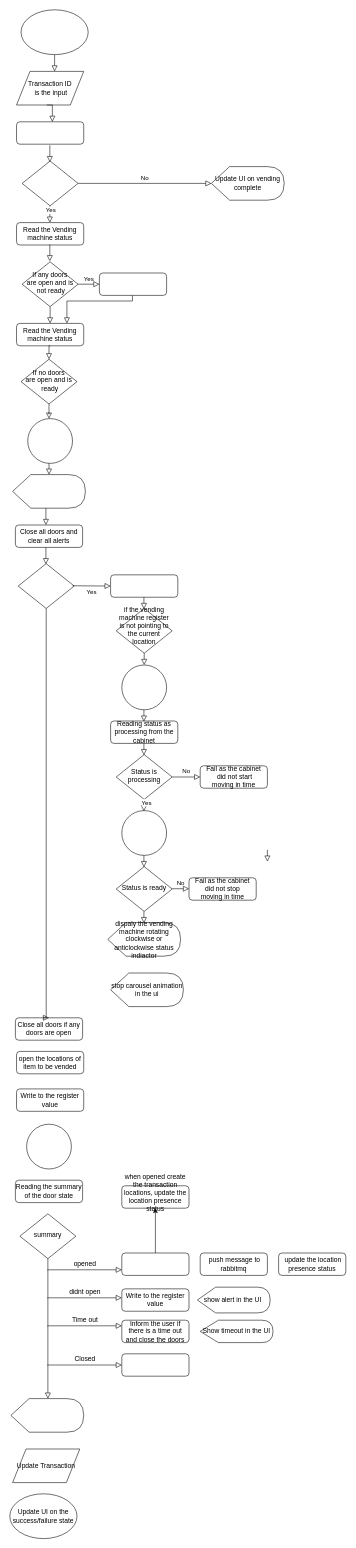
Some shapes in this 356 by 1548 pixel diagram are drawn without their labels. The shapes that lost their labels are listed below. From the top down, each one's centre as x and y in pixels, then its label:
At (54,32): "Request start processing in Job".
At (50,132): "Fetch Transaction Info".
At (50,183): "Transaction is Present?".
At (133,283): "Close all the Doors".
At (50,440): "Iterate through all the locations".
At (48,491): "Update UI on about vending status".
At (46,585): "If machine is rotating one?".
At (144,585): "Write the location value to the venging machine register".
At (144,687): "loop for 10 seconds for the cabinet to move".
At (144,832): "loop for the 30 seconds for vending machine status to be ready".
At (48,1146): "until the doors are opened and closed".
At (155,1263): "create the transaction locations".
At (155,1364): "Mark vending comlete".
At (47,1415): "Update Carousel UI".
